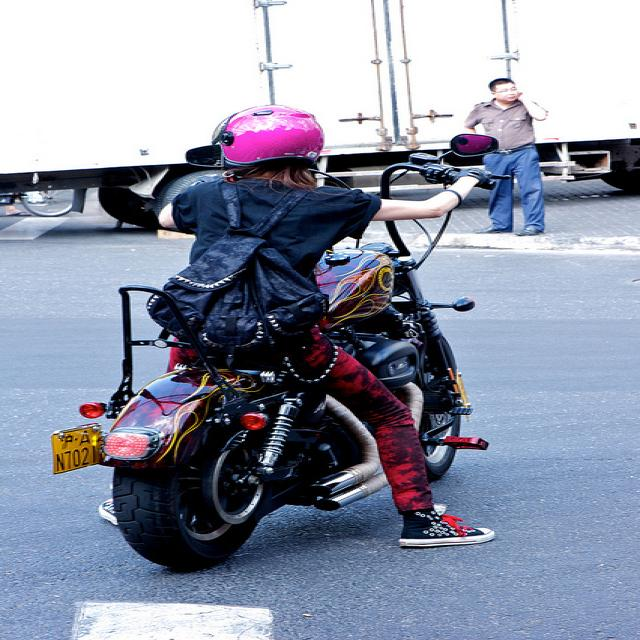motor: (47, 133, 508, 574)
